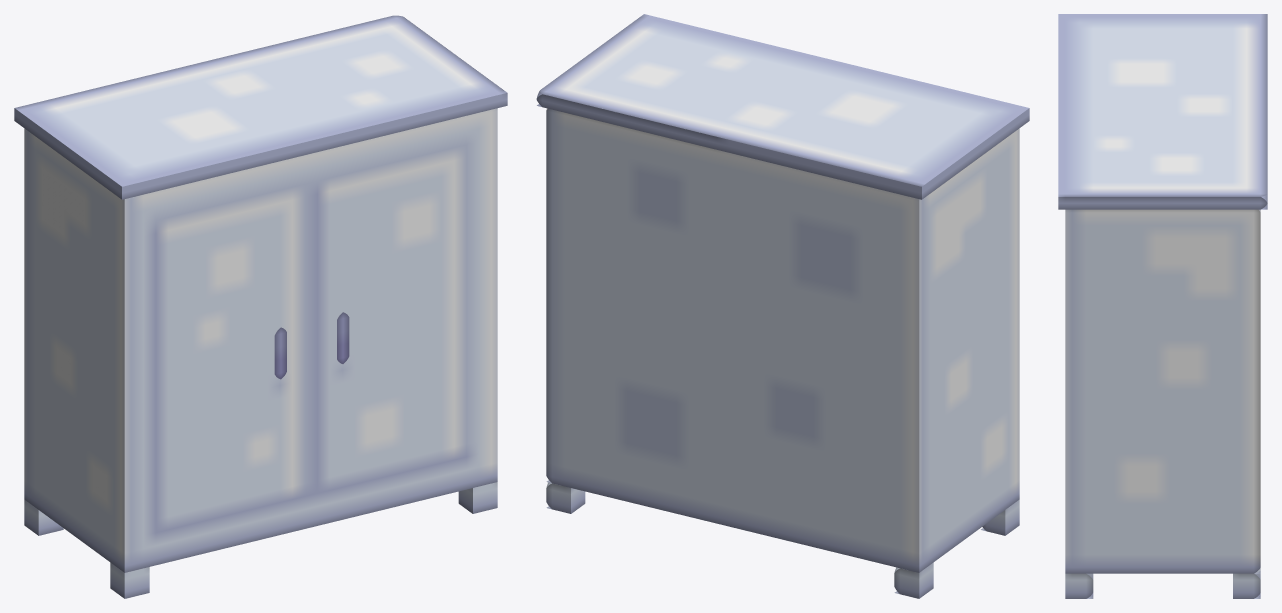
File: cabinet_10.obj
3 renders of one model, left to right at view 1: azimuth 30°, elevation 25°; view 2: azimuth 150°, elevation 25°; view 3: azimuth 270°, elevation 25°, orthographic. The views are drawn at different scales.
Bounding box in the file's own units: 1.94 × 2 × 0.9375.
1 material, 1 textured.
